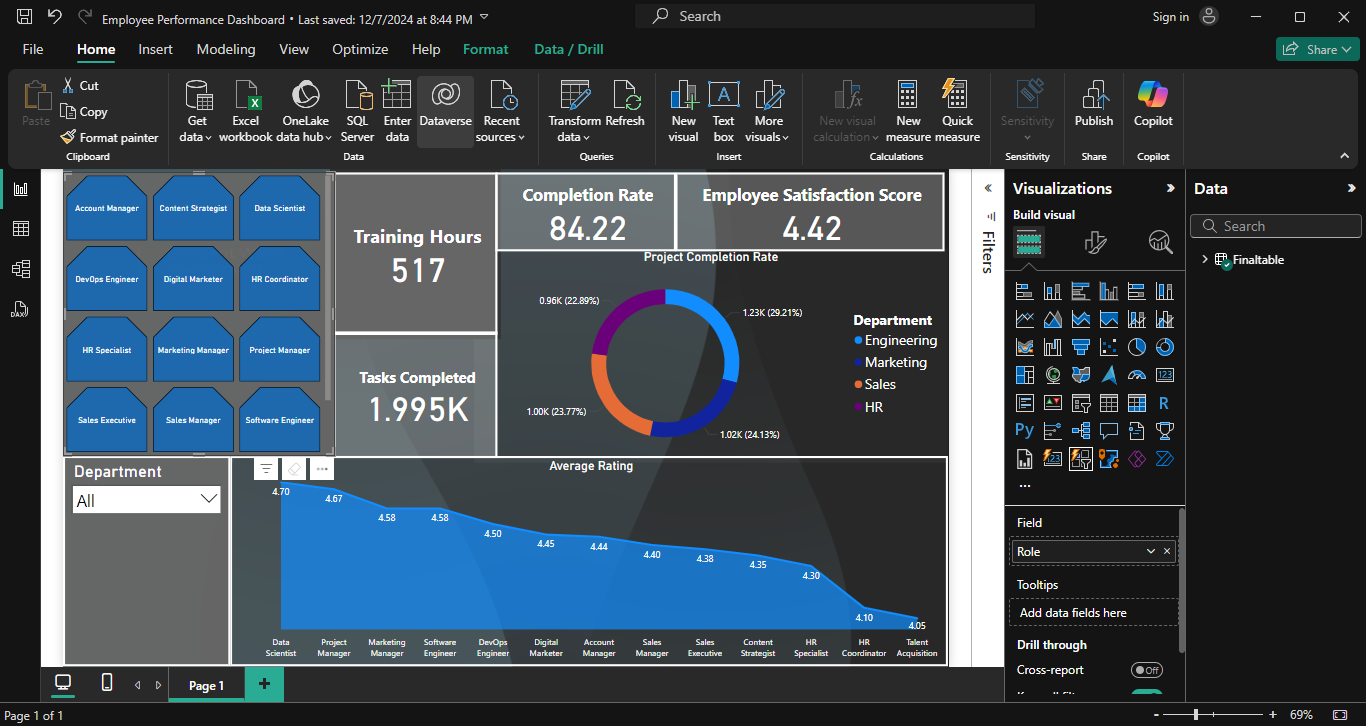

What the dashboard file says about the page in this screenshot:
{"tool":"powerbi","page":{"name":"Page 1","canvas":[1280,720],"ordinal":0},"visuals":[{"type":"donutChart","title":"Project Completion Rate ","fields":{"Category":["Finaltable.Department"],"Y":["Sum(Finaltable.ProjectCompletionRate)"]},"box":[594.2,115.7,685.3,309.4],"z":0},{"type":"areaChart","title":"Average Rating","fields":{"Category":["Finaltable.Role"],"Y":["Avg(Finaltable.EmployeeSatisfactionScore)"]},"box":[241.8,415.6,1038.2,303.8],"z":1000},{"type":"cardVisual","fields":{"Data":["Sum(Finaltable.TrainingHours)"]},"box":[386,0,247.2,245.8],"z":2000},{"type":"slicer","fields":{"Values":["Finaltable.Department"]},"box":[0,415.6,241.8,303.8],"z":3000},{"type":"cardVisual","fields":{"Data":["Sum(Finaltable.TotalTasksCompleted)"]},"box":[386,229.9,247.2,193.7],"z":4000},{"type":"advancedSlicerVisual","fields":{"Values":["Finaltable.Role"]},"box":[0,4.5,392.9,411.1],"z":5000},{"type":"cardVisual","fields":{"Data":["Avg(Finaltable.ProjectCompletionRate)"]},"box":[620.2,0,271.8,124.3],"z":6000},{"type":"cardVisual","fields":{"Data":["Avg(Finaltable.EmployeeSatisfactionScore)"]},"box":[880.5,0,399,124.3],"z":7000}]}

Visuals, with their boxes on the page's 1280x720 design canvas (x1, y1, x2, y2). These are canvas units, not pixel positions in the 1366x726 screenshot, which may show the page scaled, cropped or inside an application window:
"Project Completion Rate " donutChart: [594,116,1280,425]
"Average Rating" areaChart: [242,416,1280,719]
cardVisual - Sum(Finaltable.TrainingHours): [386,0,633,246]
slicer - Finaltable.Department: [0,416,242,719]
cardVisual - Sum(Finaltable.TotalTasksCompleted): [386,230,633,424]
advancedSlicerVisual - Finaltable.Role: [0,4,393,416]
cardVisual - Avg(Finaltable.ProjectCompletionRate): [620,0,892,124]
cardVisual - Avg(Finaltable.EmployeeSatisfactionScore): [880,0,1280,124]
